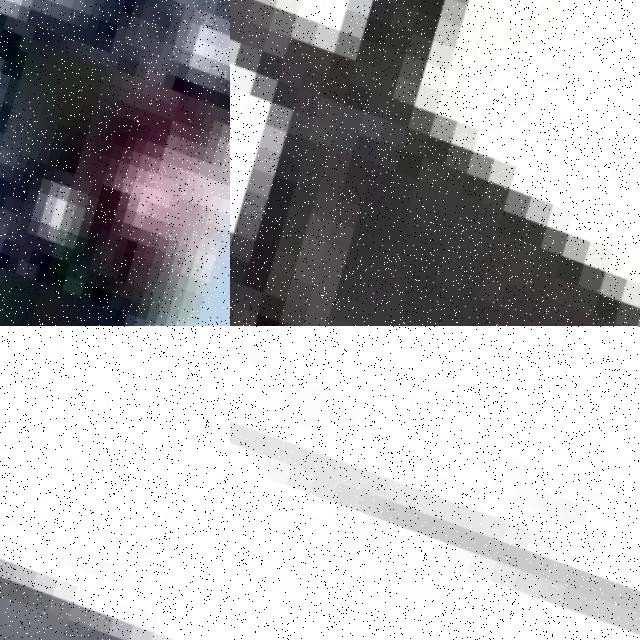drone: (230, 0, 640, 326), (230, 326, 640, 640), (0, 0, 230, 326), (0, 326, 230, 640)
